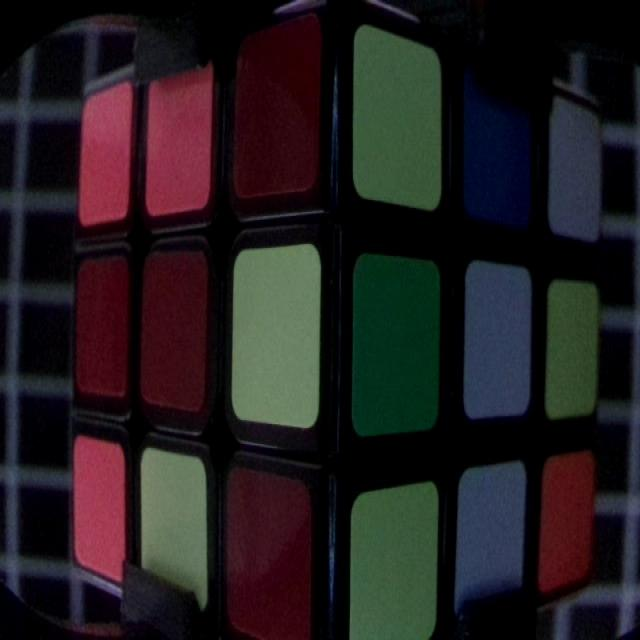b: (464, 69, 532, 223)
g: (352, 255, 442, 426)
o: (148, 58, 215, 211), (82, 84, 132, 218), (76, 439, 125, 572), (547, 457, 590, 577)
r: (230, 18, 319, 197), (227, 477, 313, 628), (140, 256, 208, 405), (78, 261, 126, 401)
w: (460, 466, 527, 617), (468, 266, 533, 411), (554, 103, 600, 230)
y: (357, 26, 443, 199), (238, 250, 320, 420), (351, 484, 440, 640), (141, 451, 206, 608), (551, 280, 596, 416)
